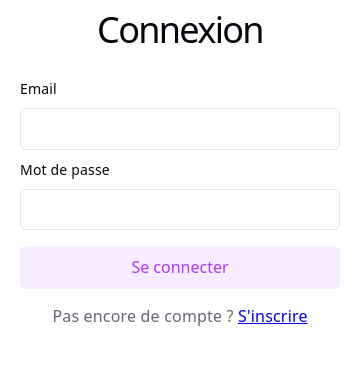
Test: LoginPage › affiche un message d'erreur si les identifiants sont invalides
Type "jane@example.com" into the field labelled "Email" at (180, 129), box [20, 108, 340, 150]
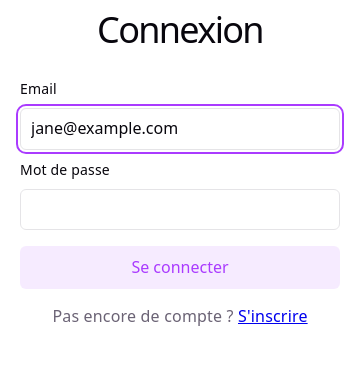
Type "wrong" into the password field labelled "Mot de passe" at (180, 209), box [20, 189, 340, 230]
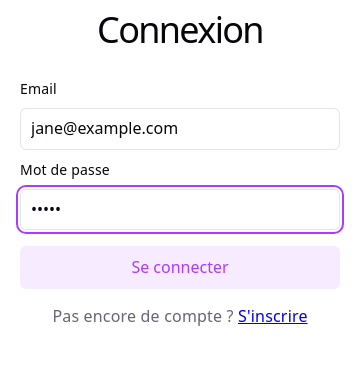
Click the button "Se connecter" at (180, 268), box [20, 246, 340, 289]
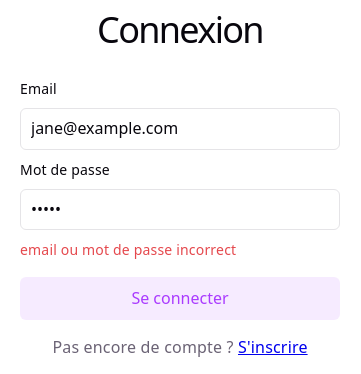
expect the text "email ou mot de passe incorrect" is shown: met, box [20, 240, 236, 259]
